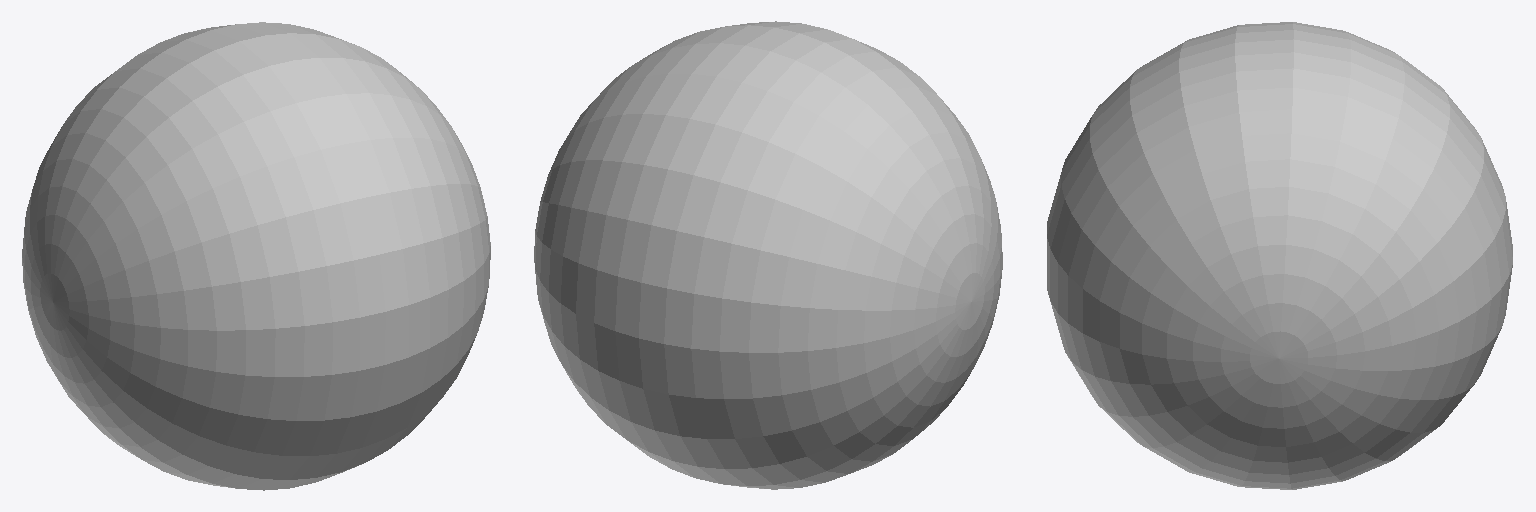
The model's file is CubeWITHAnim0020.obj.
3 views of the same model, side by side, from view 1: azimuth 30°, elevation 25°; view 2: azimuth 150°, elevation 25°; view 3: azimuth 270°, elevation 25° (orthographic).
Parts seen in each view (by area): view 1: NEWJumpBall_Sphere; view 2: NEWJumpBall_Sphere; view 3: NEWJumpBall_Sphere.
Boxes of the visible parts, x1=… form: NEWJumpBall_Sphere: x1=22, y1=22, x2=490, y2=490; NEWJumpBall_Sphere: x1=534, y1=21, x2=1002, y2=489; NEWJumpBall_Sphere: x1=1047, y1=22, x2=1512, y2=489.
Size of the model in its own units: 2 by 1.99 by 1.99.